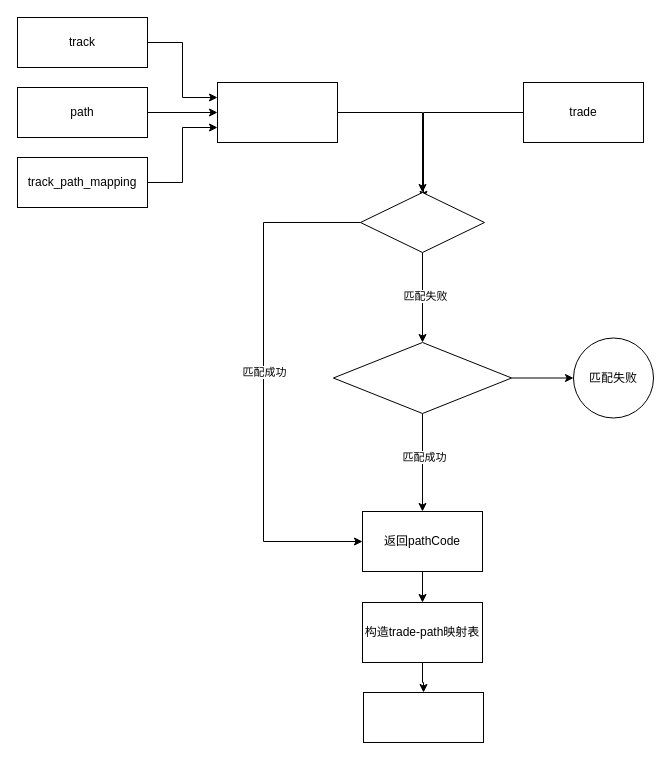
Image size: 671x760. Some labels were removed from this diagram. Each missing label, with the centre of its shape:
track_full: (277,112)
基于sid找匹配的track: (422,222)
基于交易的开始时间，结束时间，deviceId去匹配track: (422,378)
离线同步到OTS: (423,717)
